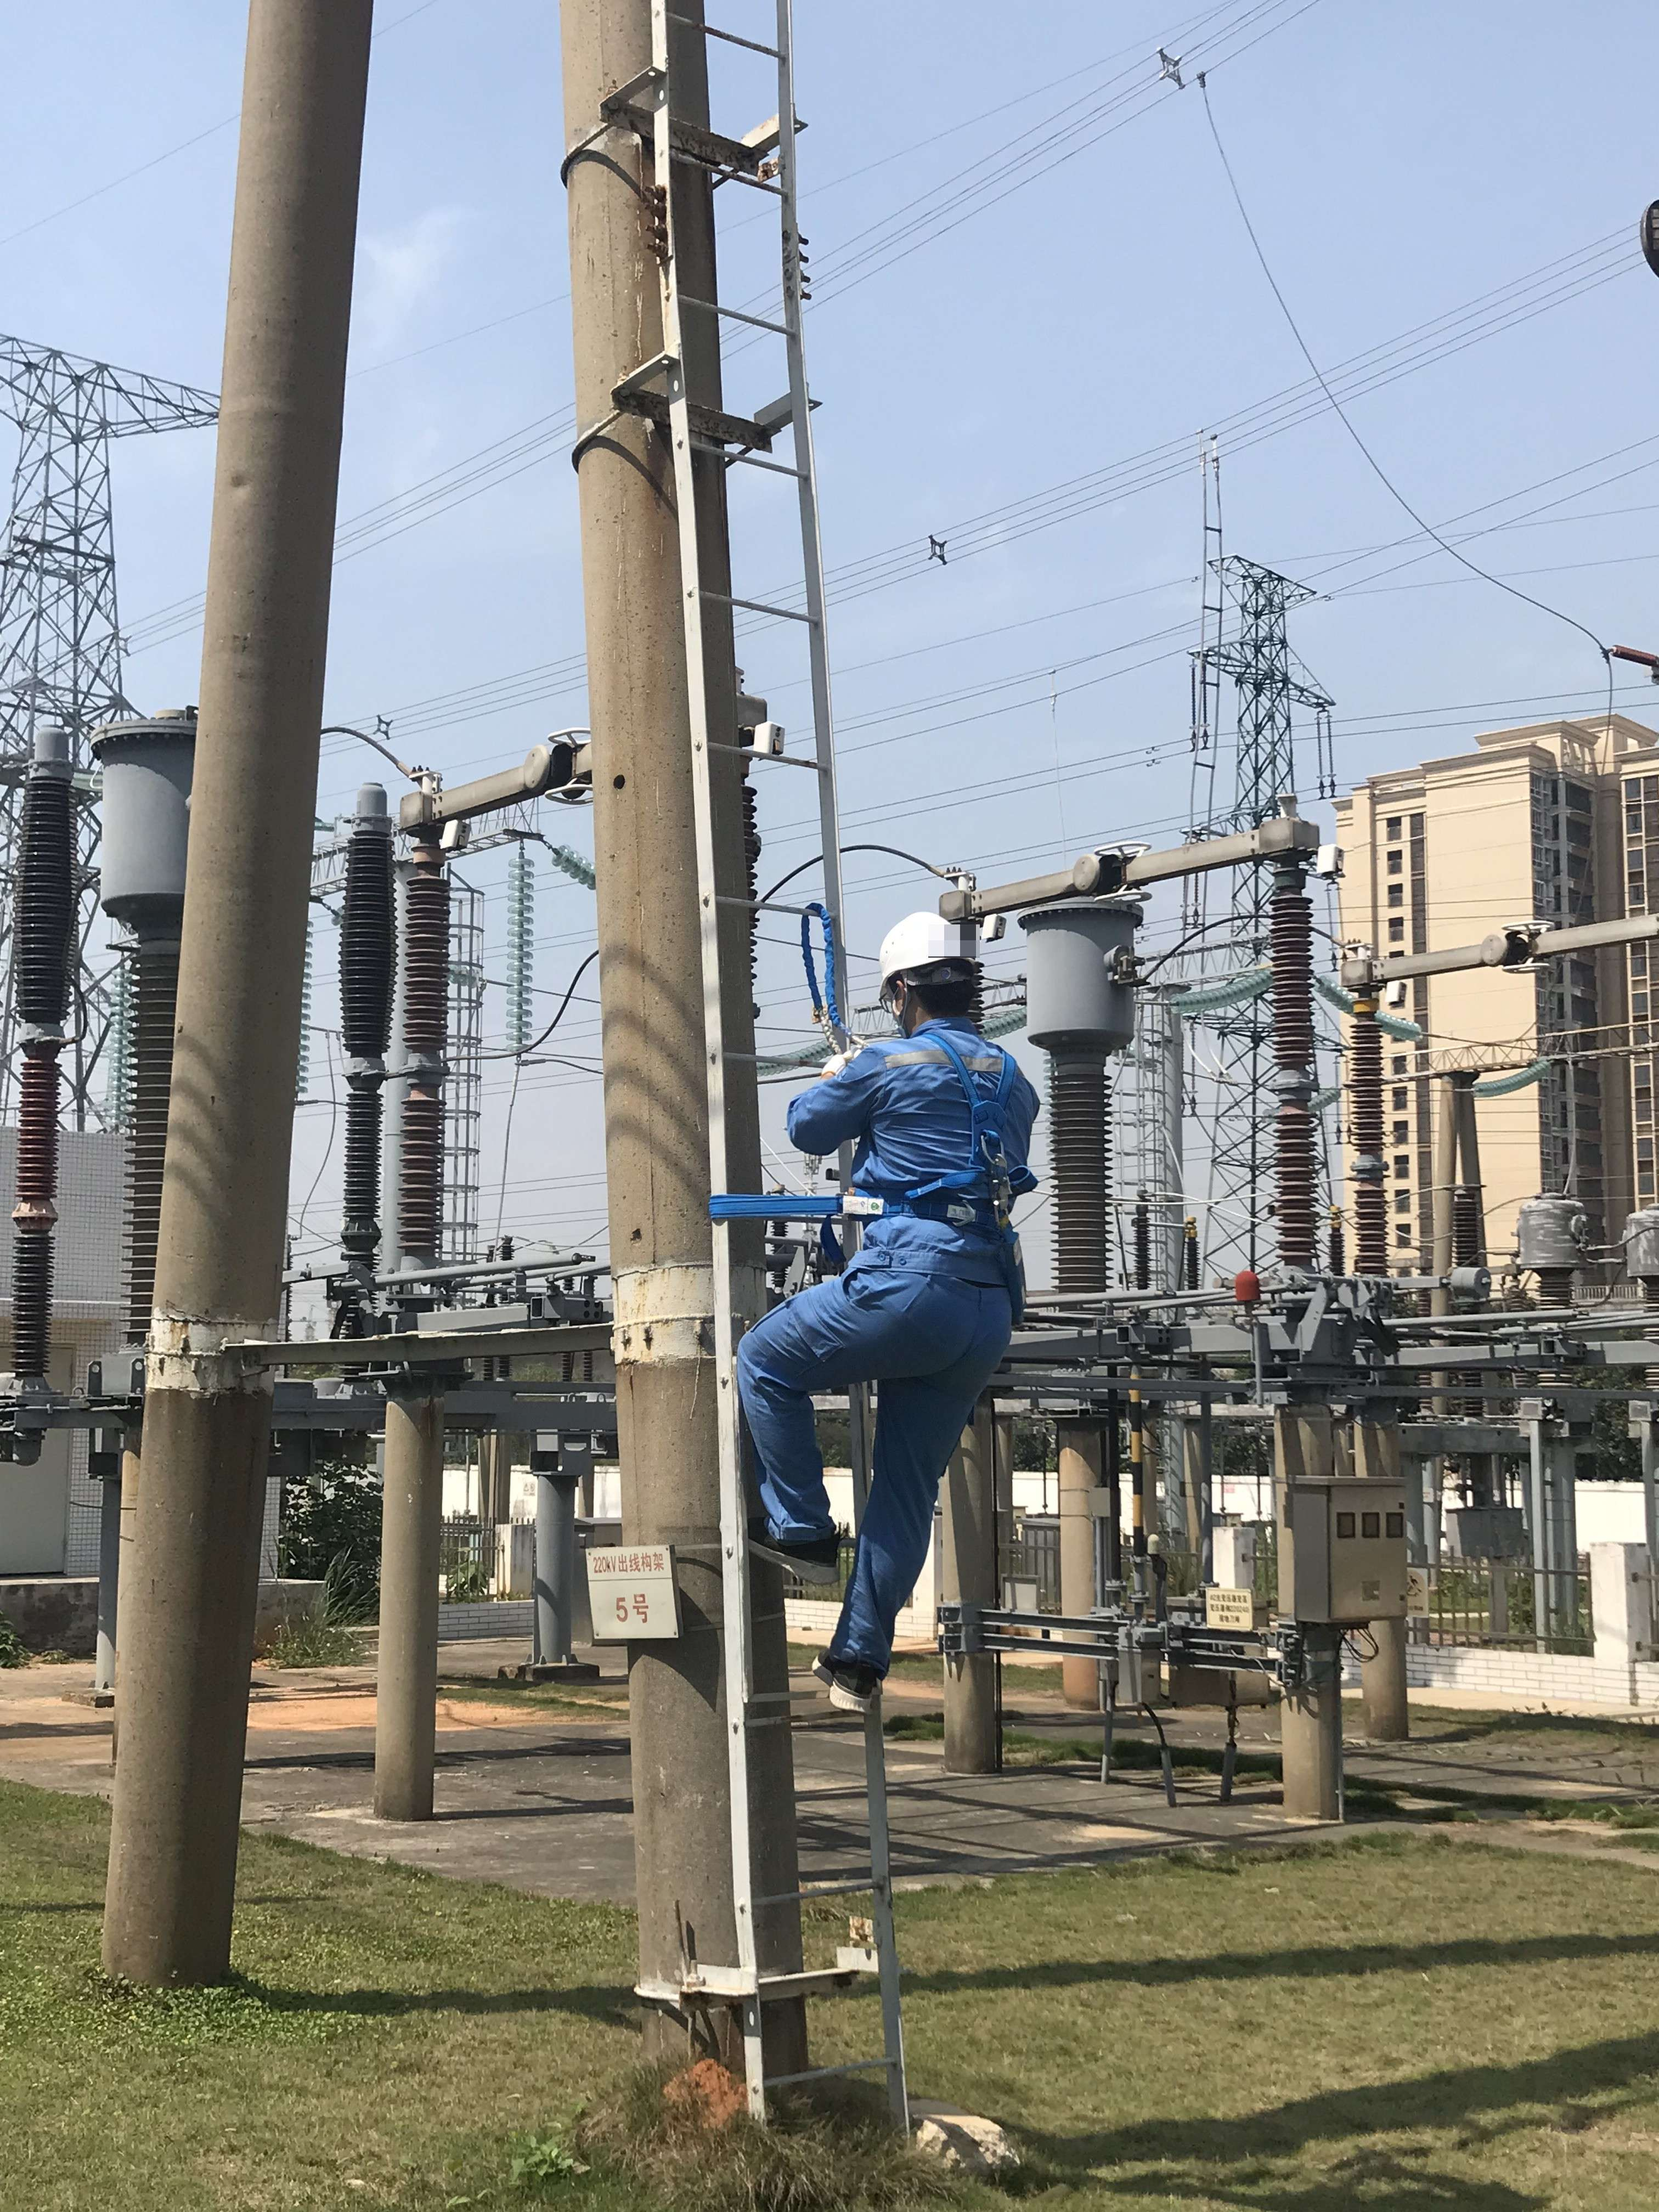downsuit: (746, 1292, 1014, 1669)
upsuit: (779, 1017, 1061, 1277)
